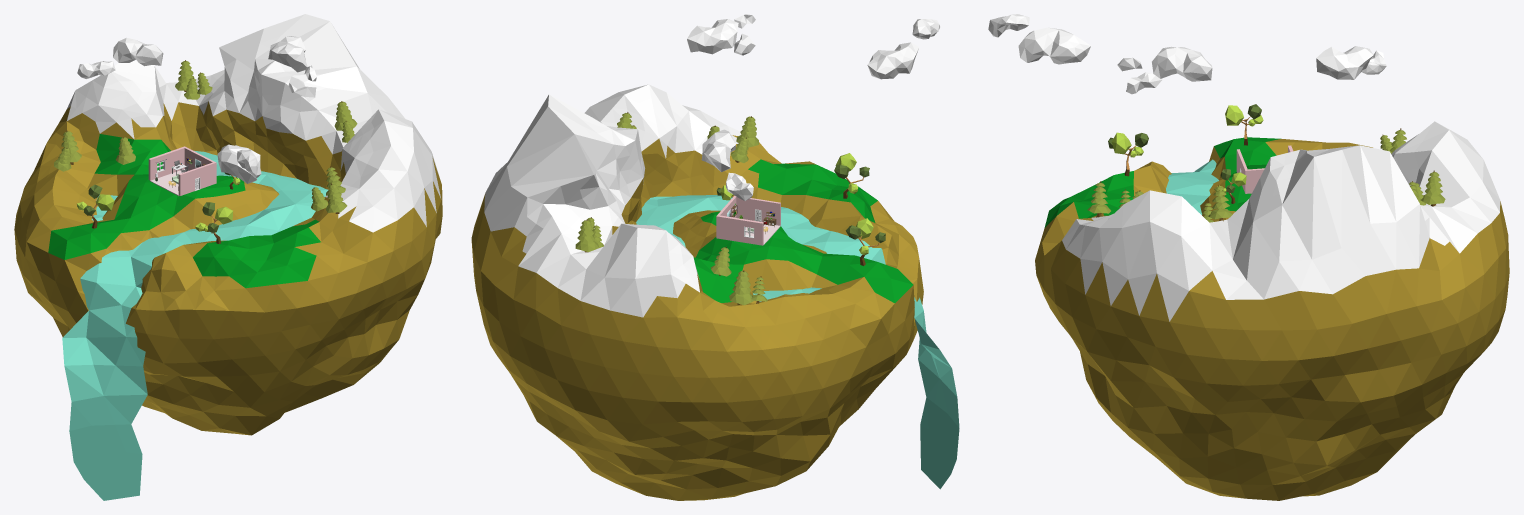
3 views of the same model, side by side, from view 1: azimuth 30°, elevation 25°; view 2: azimuth 150°, elevation 25°; view 3: azimuth 270°, elevation 25° (orthographic). The views are drawn at different scales.
Visible parts, largest first — view 1: Material_002_material, Material_001_material, Material_003_material, walls; view 2: Material_002_material, Material_001_material, Material_003_material, walls, Material_007_material; view 3: Material_002_material, Material_003_material, Material_001_material, walls.
Boxes of the visible parts, x1,y1,x2,y2 form: Material_002_material: (14,14,442,435); Material_001_material: (62,150,328,500); Material_003_material: (77,36,316,183); walls: (148,146,216,195); Material_002_material: (471,84,923,500); Material_001_material: (636,195,959,489); Material_003_material: (687,14,939,200); walls: (716,195,780,245); Material_007_material: (729,271,754,305); Material_002_material: (1035,121,1509,500); Material_003_material: (988,14,1386,94); Material_001_material: (1166,159,1218,214); walls: (1236,145,1293,193).
Size of the model in its own units: 38.91 by 38.19 by 40.66.
